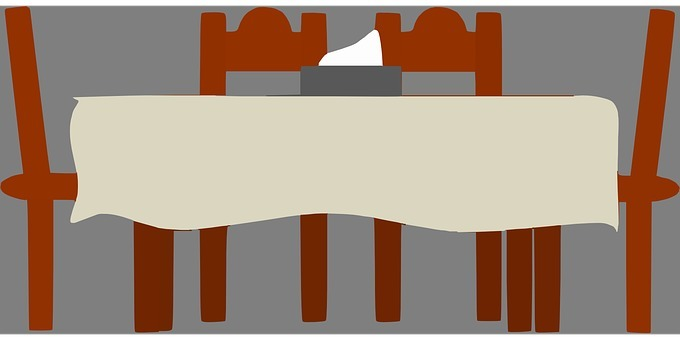chair: (2, 8, 155, 337), (362, 13, 515, 340), (187, 8, 338, 323), (532, 11, 677, 330)
diningtable: (58, 74, 629, 338)
